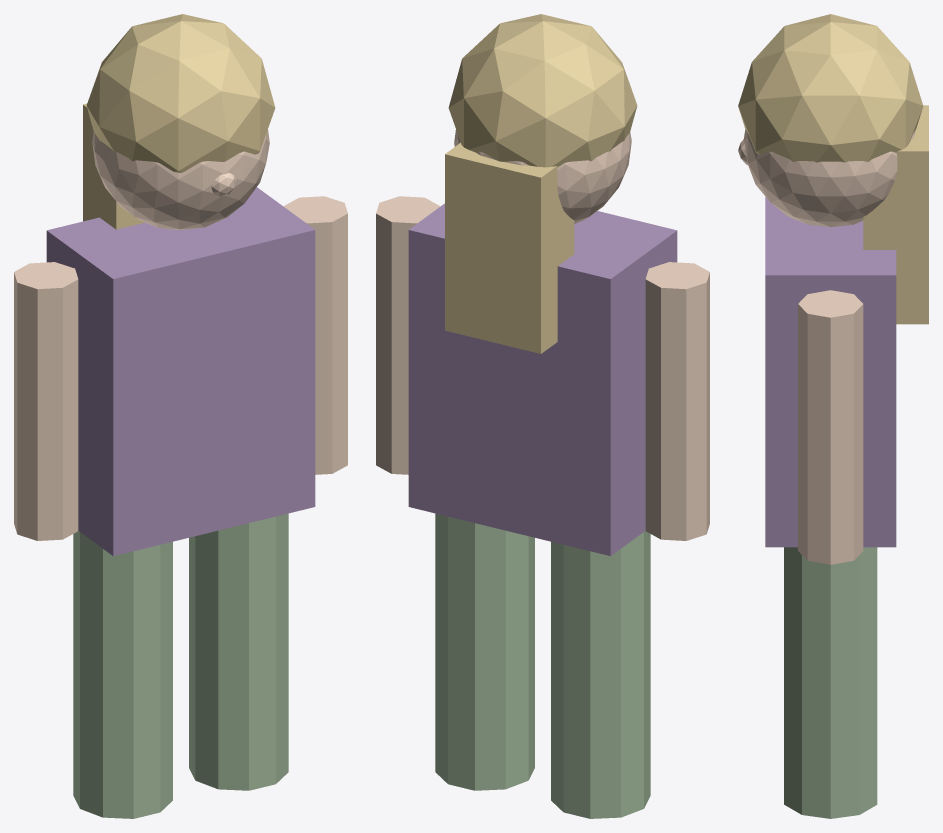
The model's file is sim_teen_slender.glb.
The picture shows the model from 3 angles, left to right: view 1: azimuth 30°, elevation 25°; view 2: azimuth 150°, elevation 25°; view 3: azimuth 270°, elevation 25°; orthographic projection.
Visible parts, largest first — view 1: p002, p000, p001, p006, p003, p004, p005, p007; view 2: p002, p000, p001, p006, p007, p003, p004, p005; view 3: p002, p001, p006, p004, p005, p007.
Boxes of the visible parts, x1,y1,x2,y2 form: p002: (46,187,315,556); p000: (73,531,172,818); p001: (189,513,288,790); p006: (86,14,275,172); p003: (14,262,78,540); p004: (283,196,347,474); p005: (92,129,269,230); p007: (83,103,145,229); p002: (408,203,677,556); p000: (551,531,650,818); p001: (435,513,534,790); p006: (448,14,637,167); p007: (445,142,574,353); p003: (645,262,709,540); p004: (376,196,440,474); p005: (454,129,631,223); p002: (765,197,896,547); p001: (784,547,877,818); p006: (738,14,923,162); p004: (798,290,863,564); p005: (743,129,915,227); p007: (863,105,928,324).
Bounding box in the file's own units: 0.612 × 1.36 × 0.315.
